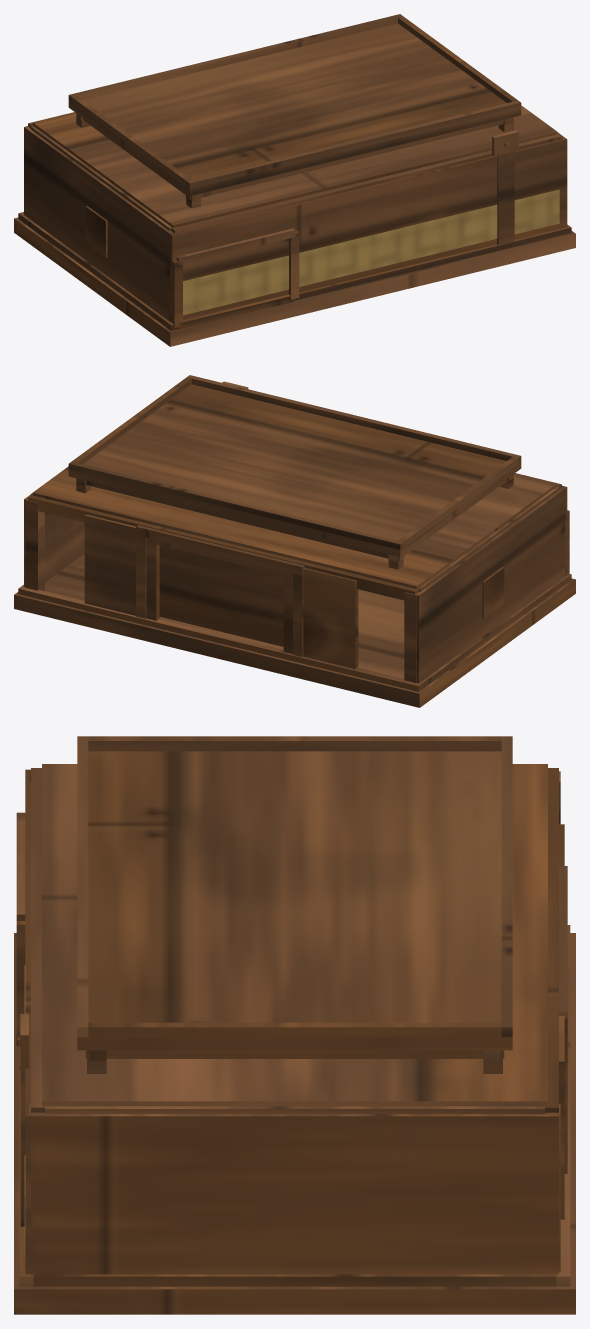
3 views of the same model, one above another, from view 1: azimuth 30°, elevation 25°; view 2: azimuth 150°, elevation 25°; view 3: azimuth 270°, elevation 25° (orthographic). The views are drawn at different scales.
Parts seen in each view (by area): view 1: SM_HDBF_BoxFarm_Intermediate_LOD2; view 2: SM_HDBF_BoxFarm_Intermediate_LOD2; view 3: SM_HDBF_BoxFarm_Intermediate_LOD2.
Part boxes in pixels (left/top/right/bottom): SM_HDBF_BoxFarm_Intermediate_LOD2: left=14, top=14, right=575, bottom=346; SM_HDBF_BoxFarm_Intermediate_LOD2: left=14, top=375, right=575, bottom=707; SM_HDBF_BoxFarm_Intermediate_LOD2: left=14, top=736, right=575, bottom=1314.
Size of the model in its own units: 3 by 1 by 2.
3 materials, 3 textured.
